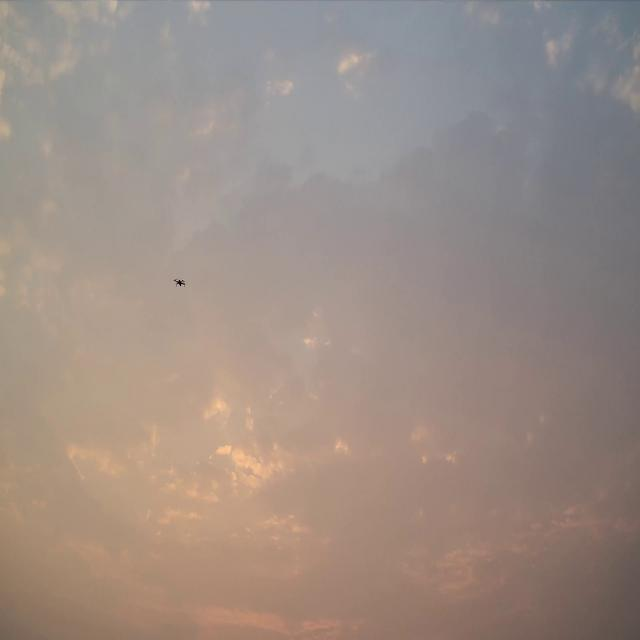UAV: (173, 277, 187, 287)
